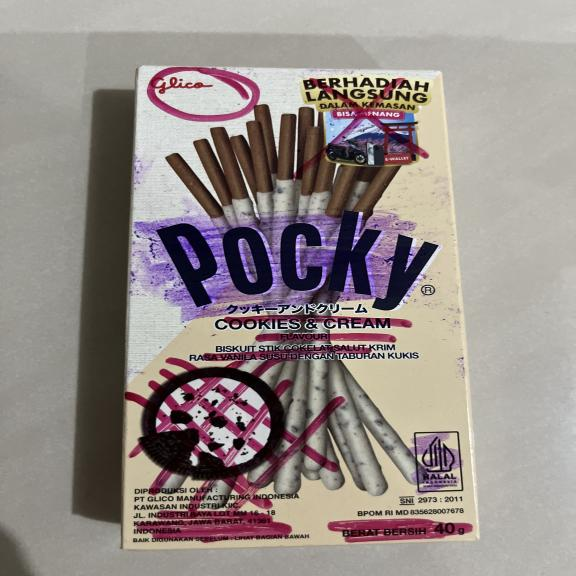Kertas: (122, 66, 449, 553)
